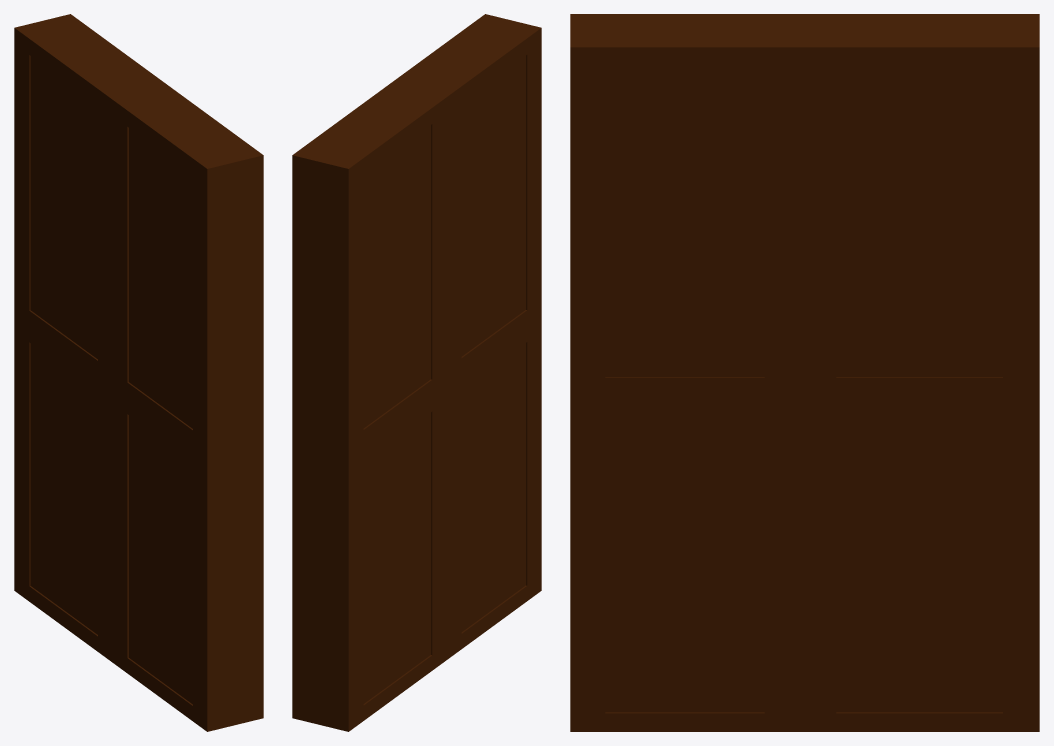
File: doors.fbx
3 views of the same model, side by side, from view 1: azimuth 30°, elevation 25°; view 2: azimuth 150°, elevation 25°; view 3: azimuth 270°, elevation 25° (orthographic). The views are drawn at different scales.
Parts seen in each view (by area): view 1: pCube1; view 2: pCube1; view 3: pCube1.
Part boxes in pixels (x1,y1,x2,y2): pCube1: (14, 14, 263, 731); pCube1: (292, 14, 541, 731); pCube1: (570, 14, 1039, 731).
Bounding box in the file's own units: 0.1862 × 1.78 × 1.1.
